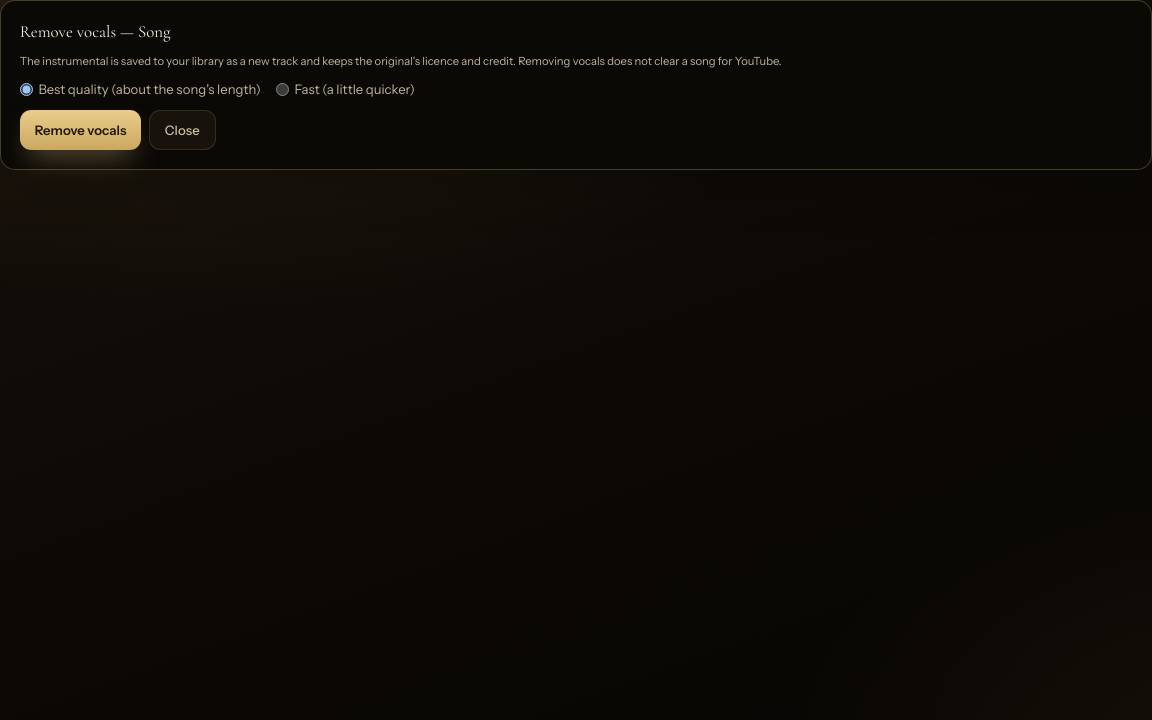
Scenario: InstrumentalDialog › retries a transient poll failure instead of failing on the first miss
Click the button "Remove vocals" at (81, 130), box [20, 110, 141, 150]
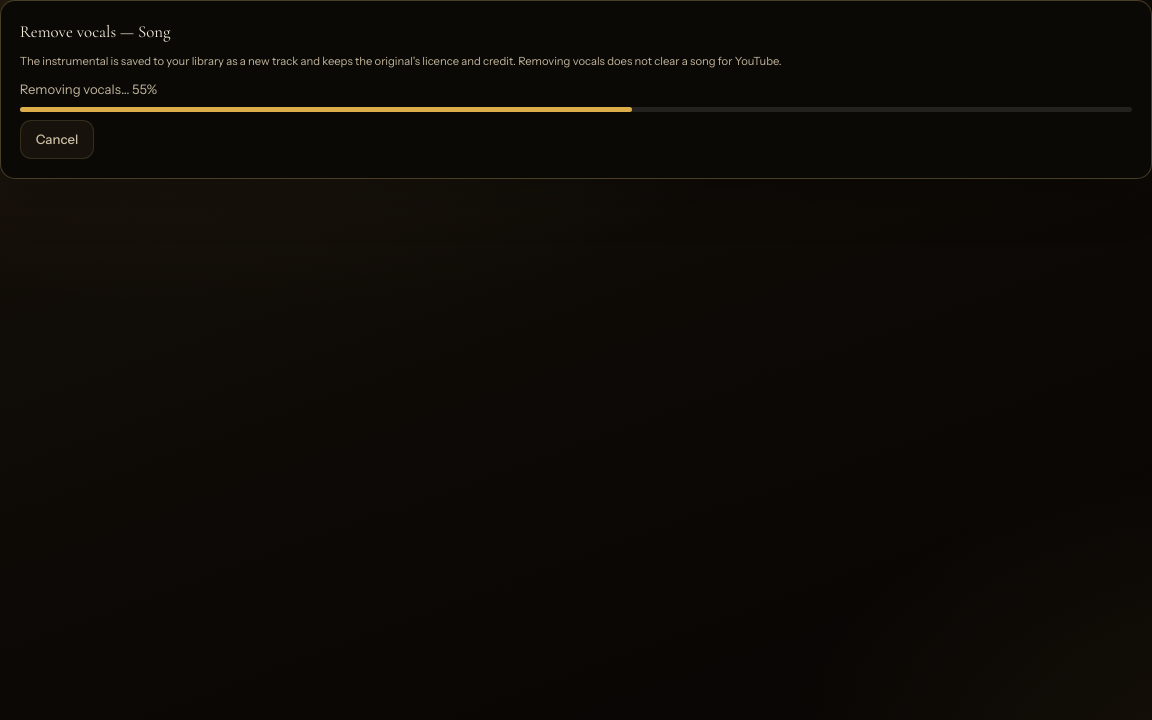
Result: the text "Removing vocals… 55%" is shown at [20, 82, 157, 98]
